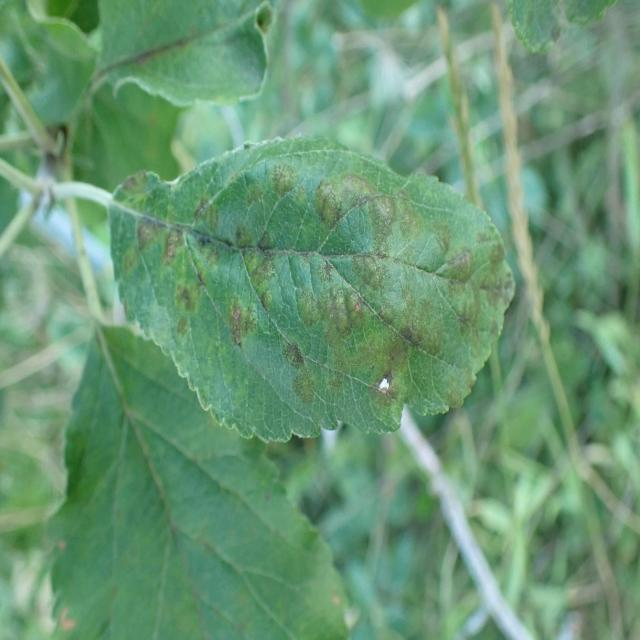scab: (101, 127, 521, 431), (82, 16, 250, 101)
